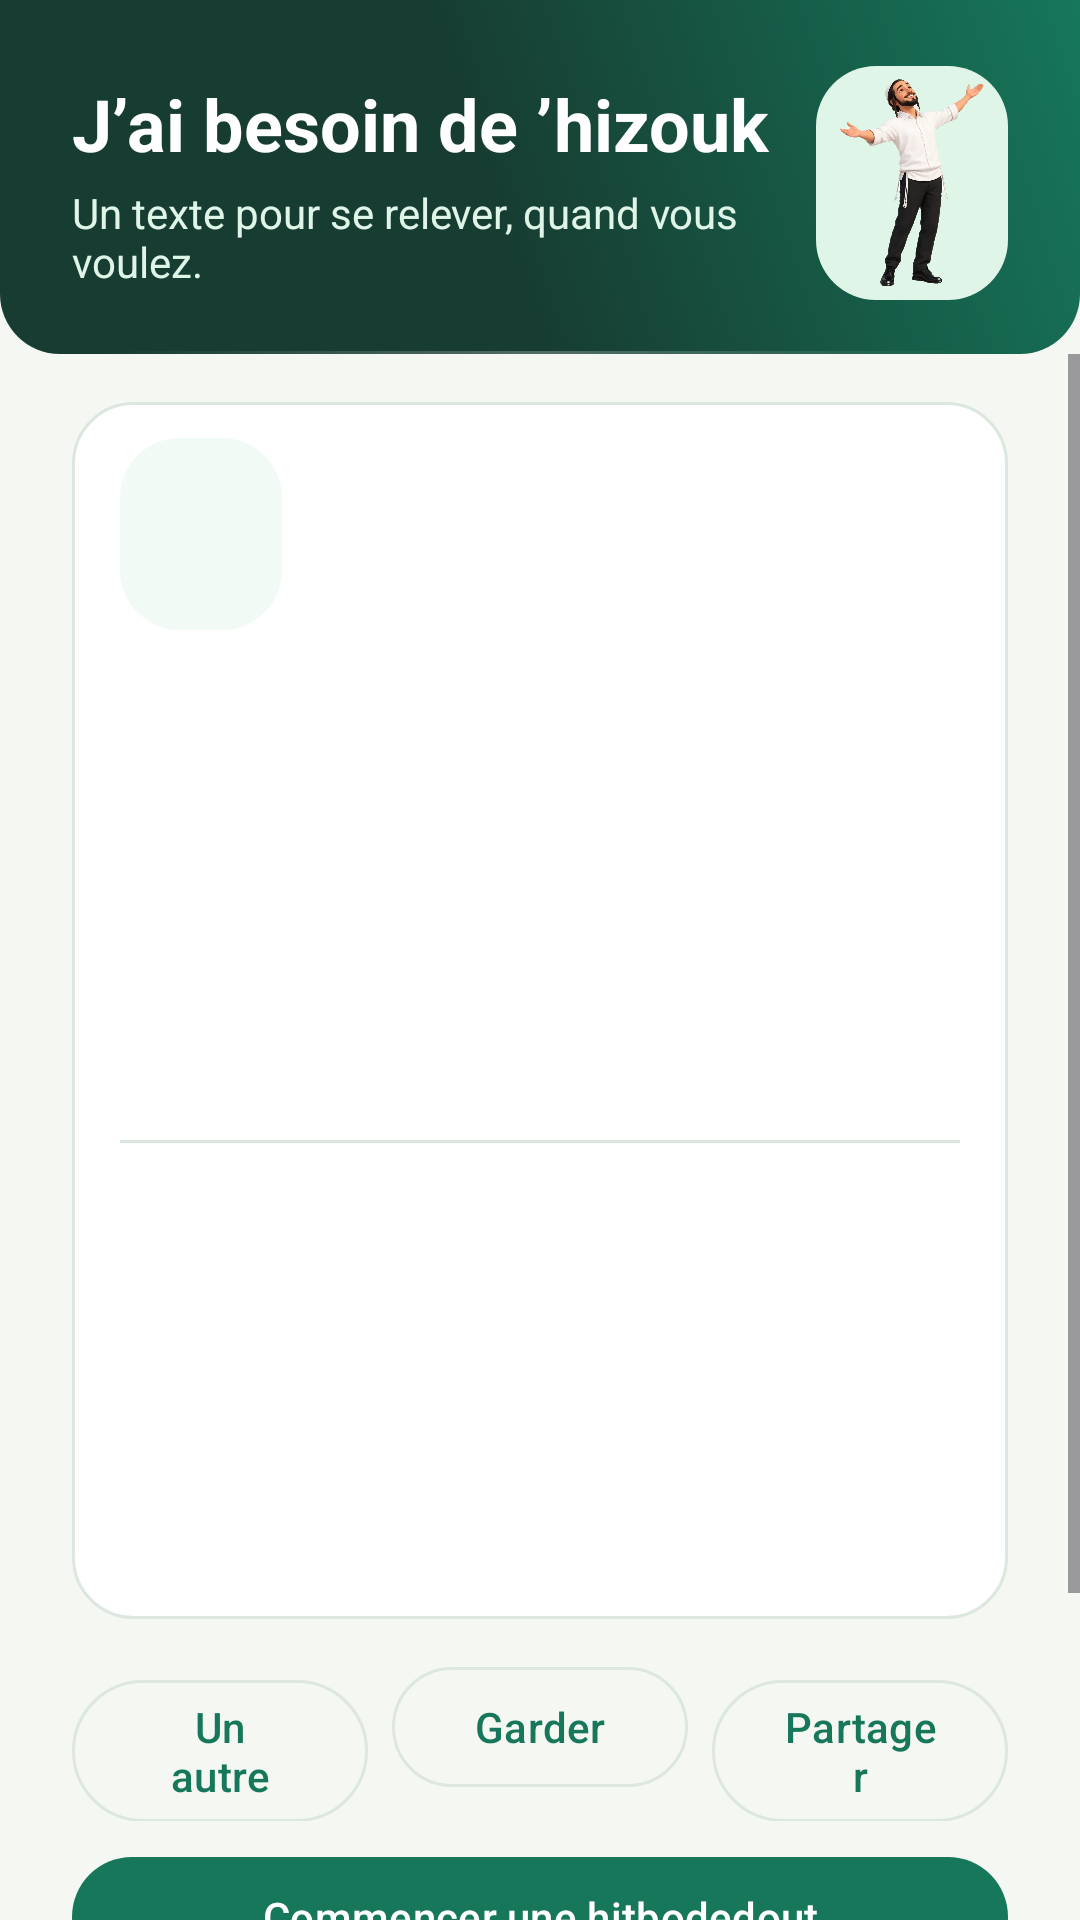

Screen size 1080 x 1920. Icon name, then its box in pixels as (x1, y1, x2, y2):
char open arms: (840, 79, 984, 286)
